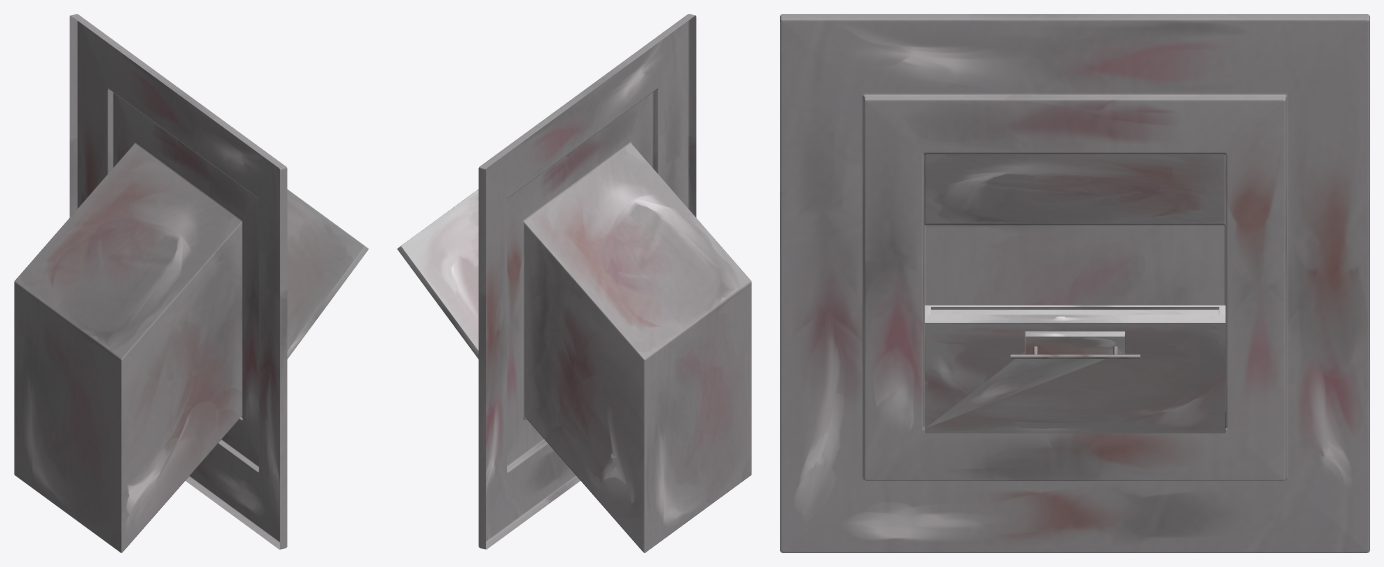
Rendered from TrashChute.fbx.
3 views of the same model, side by side, from view 1: azimuth 30°, elevation 25°; view 2: azimuth 150°, elevation 25°; view 3: azimuth 270°, elevation 25° (orthographic). The views are drawn at different scales.
Visible parts, largest first — view 1: TrashChute Base, TrashChute Door; view 2: TrashChute Base, TrashChute Door; view 3: TrashChute Base, TrashChute Door, TrashChute DoorHandle.
Boxes of the visible parts, left/top/right/bottom form: TrashChute Base: left=14, top=14, right=287, bottom=552; TrashChute Door: left=239, top=189, right=368, bottom=420; TrashChute Base: left=478, top=14, right=751, bottom=552; TrashChute Door: left=397, top=189, right=526, bottom=420; TrashChute Base: left=780, top=14, right=1369, bottom=552; TrashChute Door: left=924, top=305, right=1225, bottom=433; TrashChute DoorHandle: left=1010, top=346, right=1140, bottom=358.
Size of the model in its own units: 2.17 by 1.48 by 2.26.
